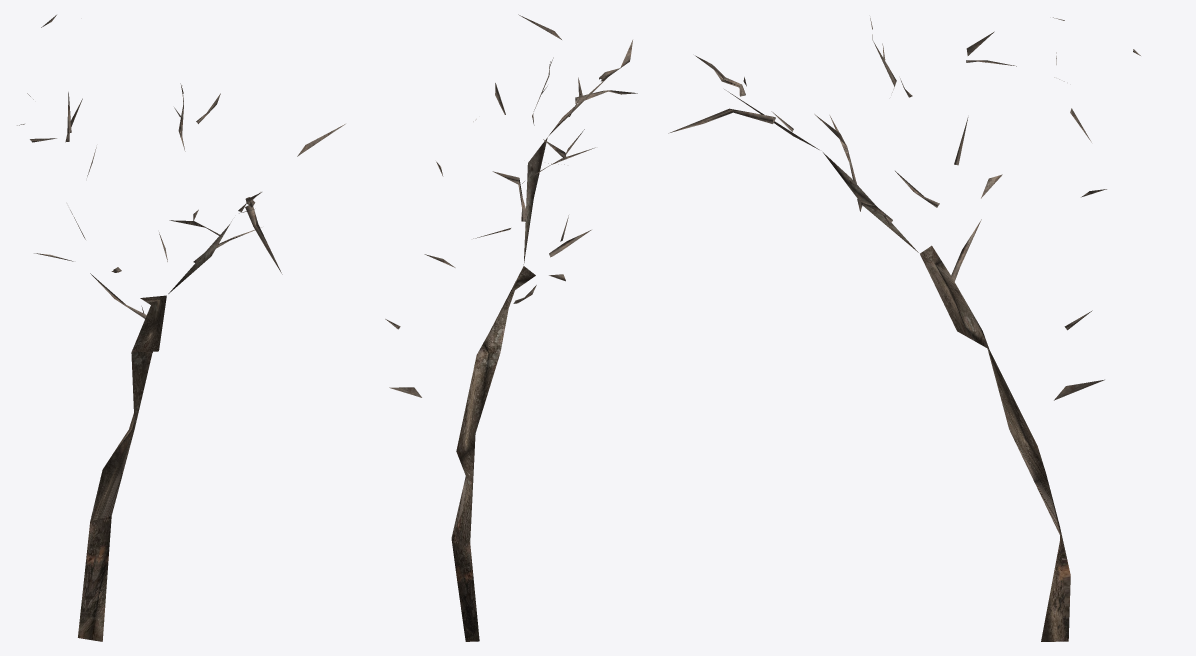
File: tree_small_02_far.glb
3 views of the same model, side by side, from view 1: azimuth 30°, elevation 25°; view 2: azimuth 150°, elevation 25°; view 3: azimuth 270°, elevation 25° (orthographic). The views are drawn at different scales.
Parts seen in each view (by area): view 1: tree_small_02_LOD0; view 2: tree_small_02_LOD0; view 3: tree_small_02_LOD0.
Part boxes in pixels (<box>): tree_small_02_LOD0: <box>17,15,345,641</box>; tree_small_02_LOD0: <box>385,14,637,641</box>; tree_small_02_LOD0: <box>668,17,1140,641</box>.
Bounding box in the file's own units: 1.23 × 3.94 × 2.94.
Materials: 2 (2 with a texture image).
